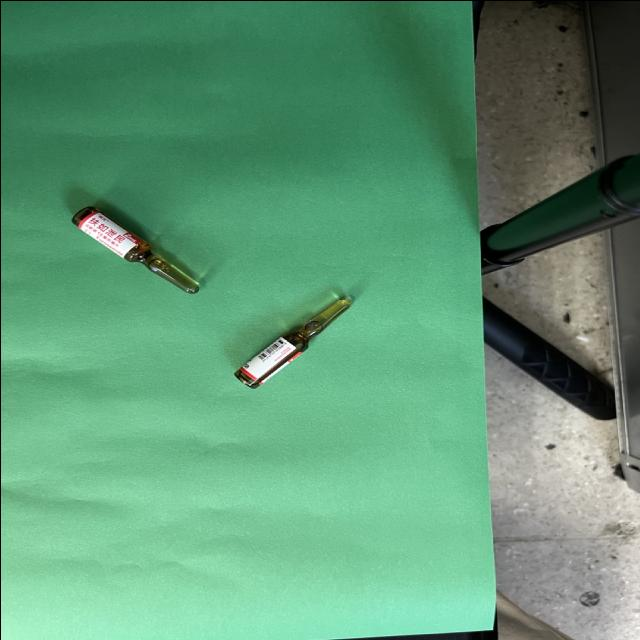Ampoules: (71, 206, 199, 292), (234, 298, 350, 388)
